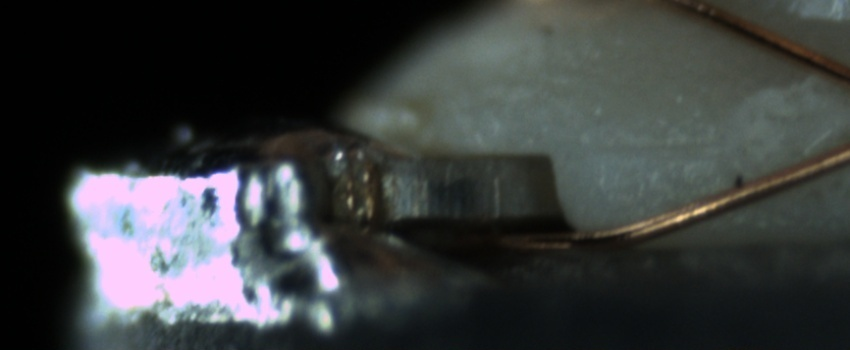DL: (578, 120, 719, 178)
TE: (332, 137, 408, 235)
